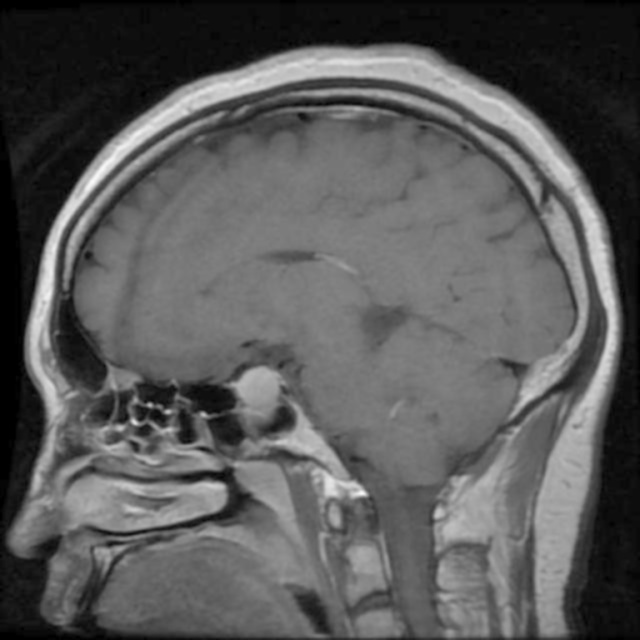no tumor: (234, 360, 312, 438)
